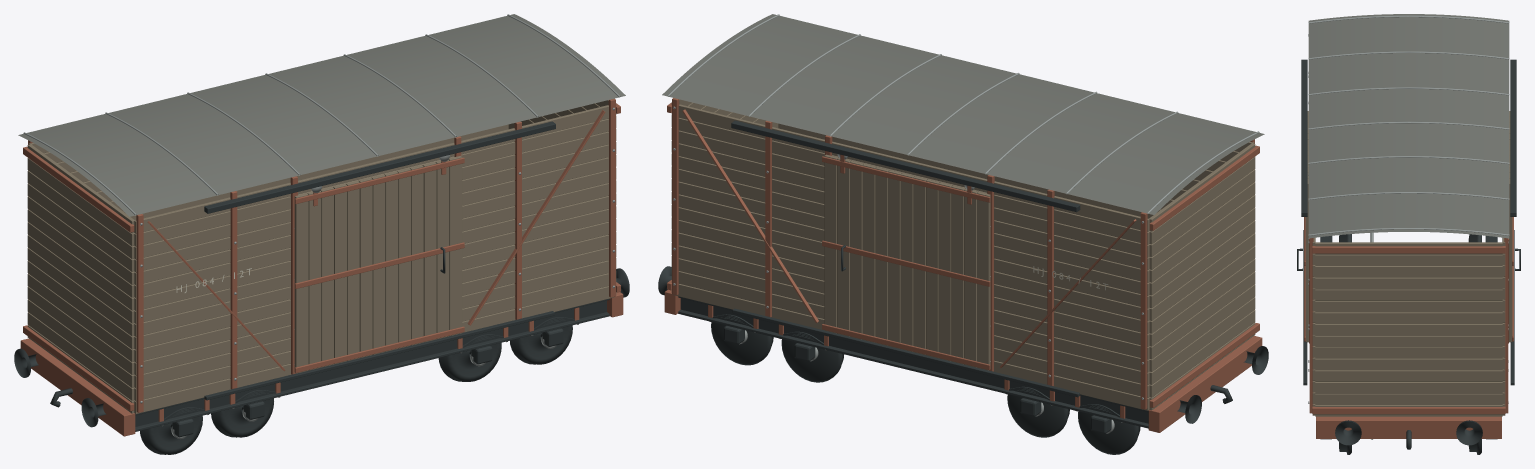
File: parked_box_van.glb
3 renders of one model, left to right at view 1: azimuth 30°, elevation 25°; view 2: azimuth 150°, elevation 25°; view 3: azimuth 270°, elevation 25°, orthographic. The views are drawn at different scales.
Visible parts, largest first — view 1: parked_box_van; view 2: parked_box_van; view 3: parked_box_van.
Part boxes in pixels (<box>): parked_box_van: <box>14,14,629,454</box>; parked_box_van: <box>658,14,1268,454</box>; parked_box_van: <box>1297,14,1520,454</box>.
Bounding box in the file's own units: 7.62 × 3.72 × 3.03.
